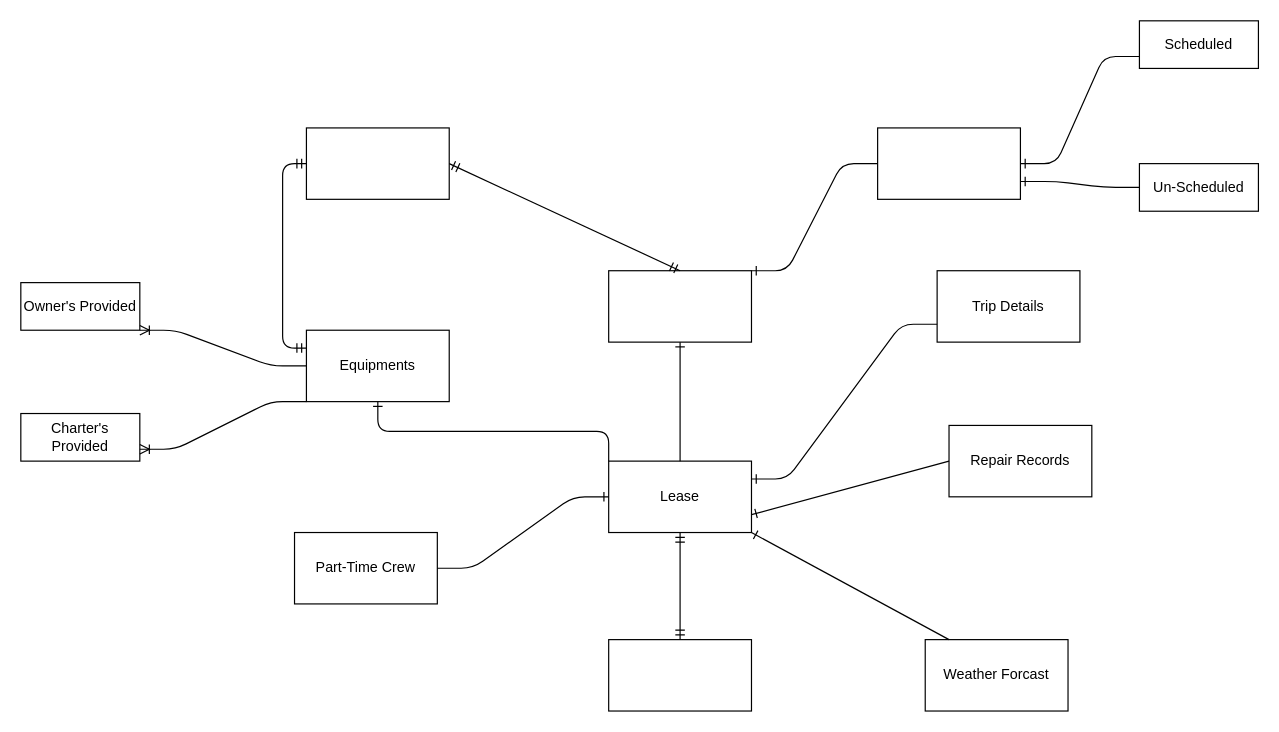
The diagram is 1279 pixels wide and 732 high, and some of its shapes have lost their labels. Each missing label, with the box of its shape:
Boat: (607, 270, 751, 342)
Customer: (607, 638, 751, 711)
Maintenance: (876, 127, 1020, 199)
Owner: (305, 127, 449, 199)
